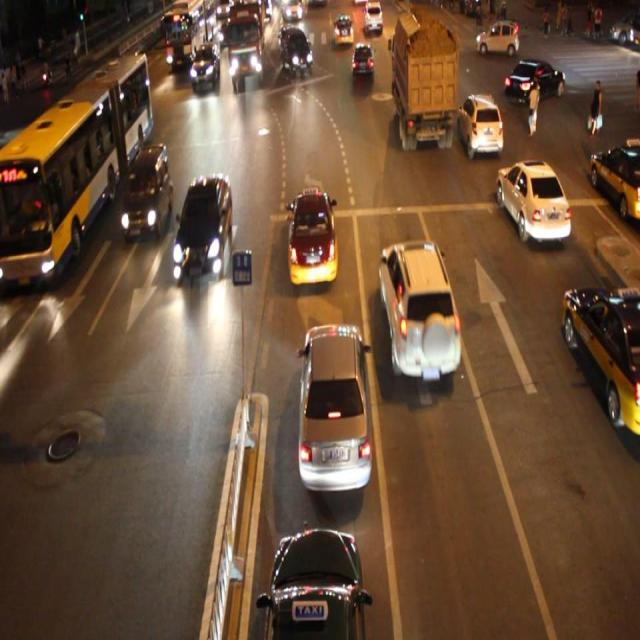bus: (392, 17, 452, 151), (226, 1, 267, 86)
car: (297, 319, 373, 495), (260, 526, 367, 640), (562, 285, 640, 434), (378, 238, 461, 377), (495, 160, 570, 241), (175, 176, 232, 278), (287, 188, 339, 284), (458, 90, 502, 157), (503, 58, 563, 106), (112, 58, 149, 108), (280, 28, 314, 75), (190, 42, 220, 84), (351, 40, 374, 77)
truck: (122, 147, 173, 232)
van: (1, 56, 149, 290), (164, 1, 215, 62)
